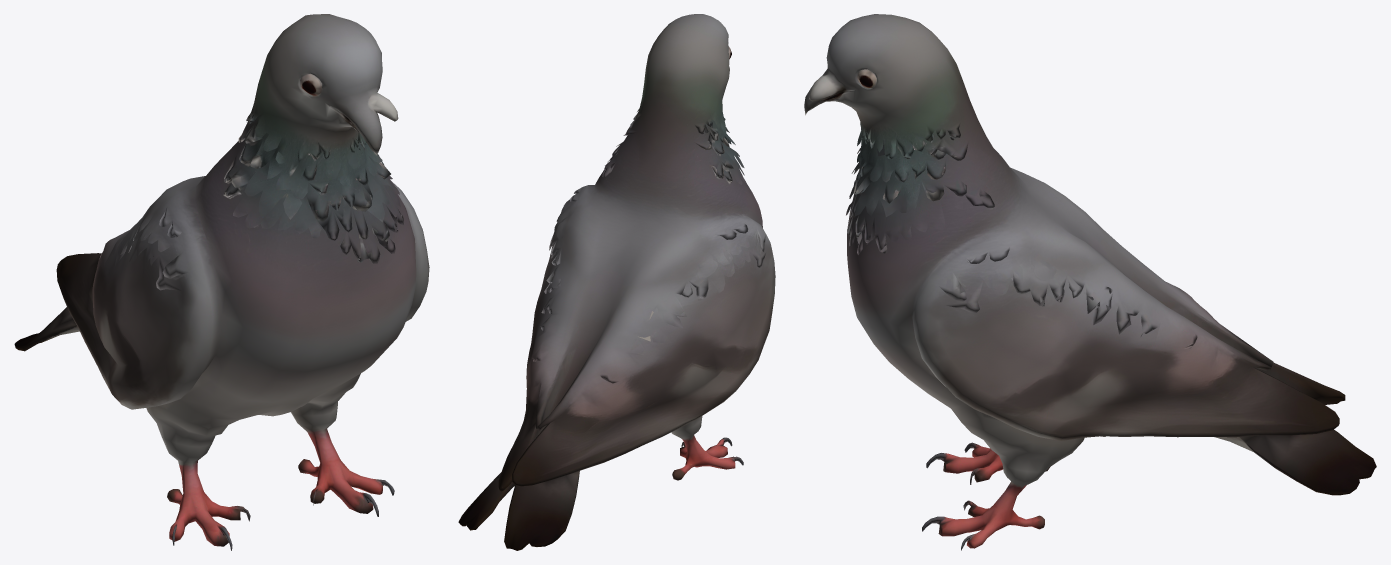
3 renders of one model, left to right at view 1: azimuth 30°, elevation 25°; view 2: azimuth 150°, elevation 25°; view 3: azimuth 270°, elevation 25°, orthographic. The views are drawn at different scales.
Parts seen in each view (by area): view 1: tripo_node_fe76be50-77cc-4df8-9f6b-8696cb7edf04; view 2: tripo_node_fe76be50-77cc-4df8-9f6b-8696cb7edf04; view 3: tripo_node_fe76be50-77cc-4df8-9f6b-8696cb7edf04.
Boxes of the visible parts, x1,y1,x2,y2 form: tripo_node_fe76be50-77cc-4df8-9f6b-8696cb7edf04: [14, 14, 429, 550]; tripo_node_fe76be50-77cc-4df8-9f6b-8696cb7edf04: [458, 14, 775, 550]; tripo_node_fe76be50-77cc-4df8-9f6b-8696cb7edf04: [804, 14, 1376, 550].
Size of the model in its own units: 0.4902 by 0.9355 by 0.998.
Materials: 1 (1 with a texture image).
